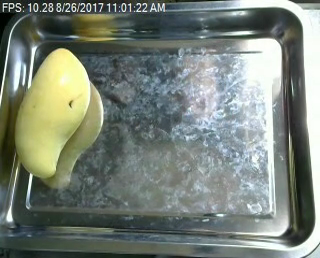Mango: (13, 45, 93, 175)
